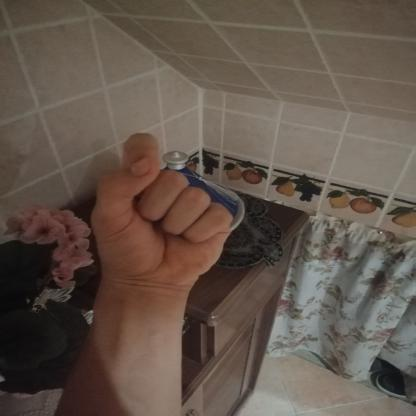FAA: (73, 120, 244, 300)
